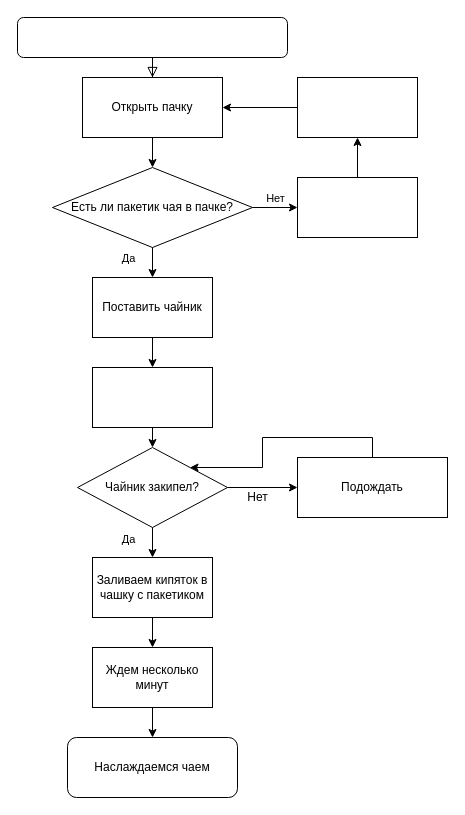
This 465x815 diagram has some shape labels left out. The centre of each missing label's shape, as x and y in pixels:
"Вернуться домой с купленной пачкой" goes at (x=357, y=107).
"Взять чашку , кинуть туда пакетик чая" goes at (x=152, y=397).
"Пачка чая" goes at (x=152, y=37).
"Пойти в магазин за новой пачкой" goes at (x=357, y=207).
